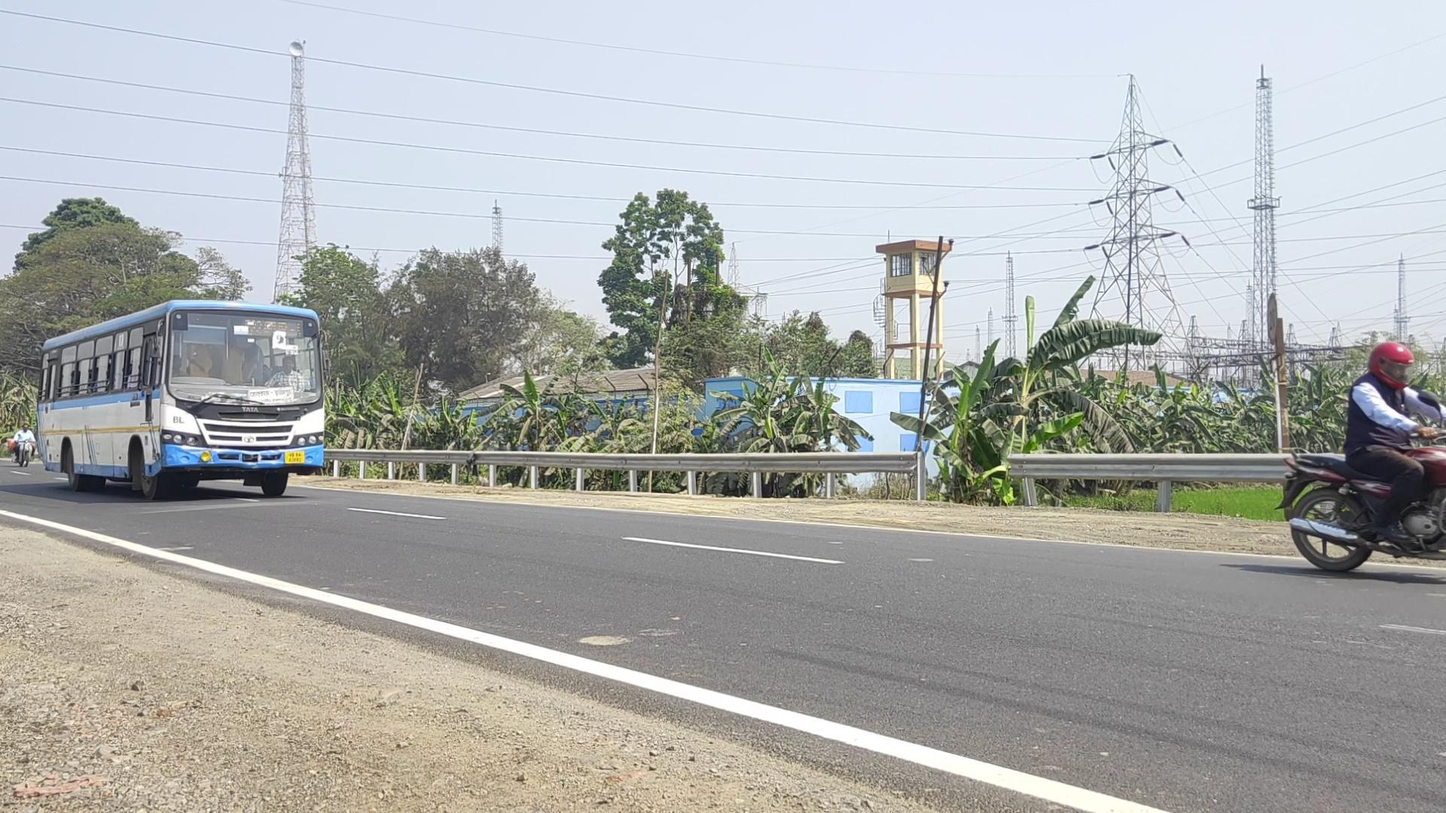Bus: (35, 299, 325, 502)
bike: (1276, 340, 1446, 573), (6, 423, 35, 467)
